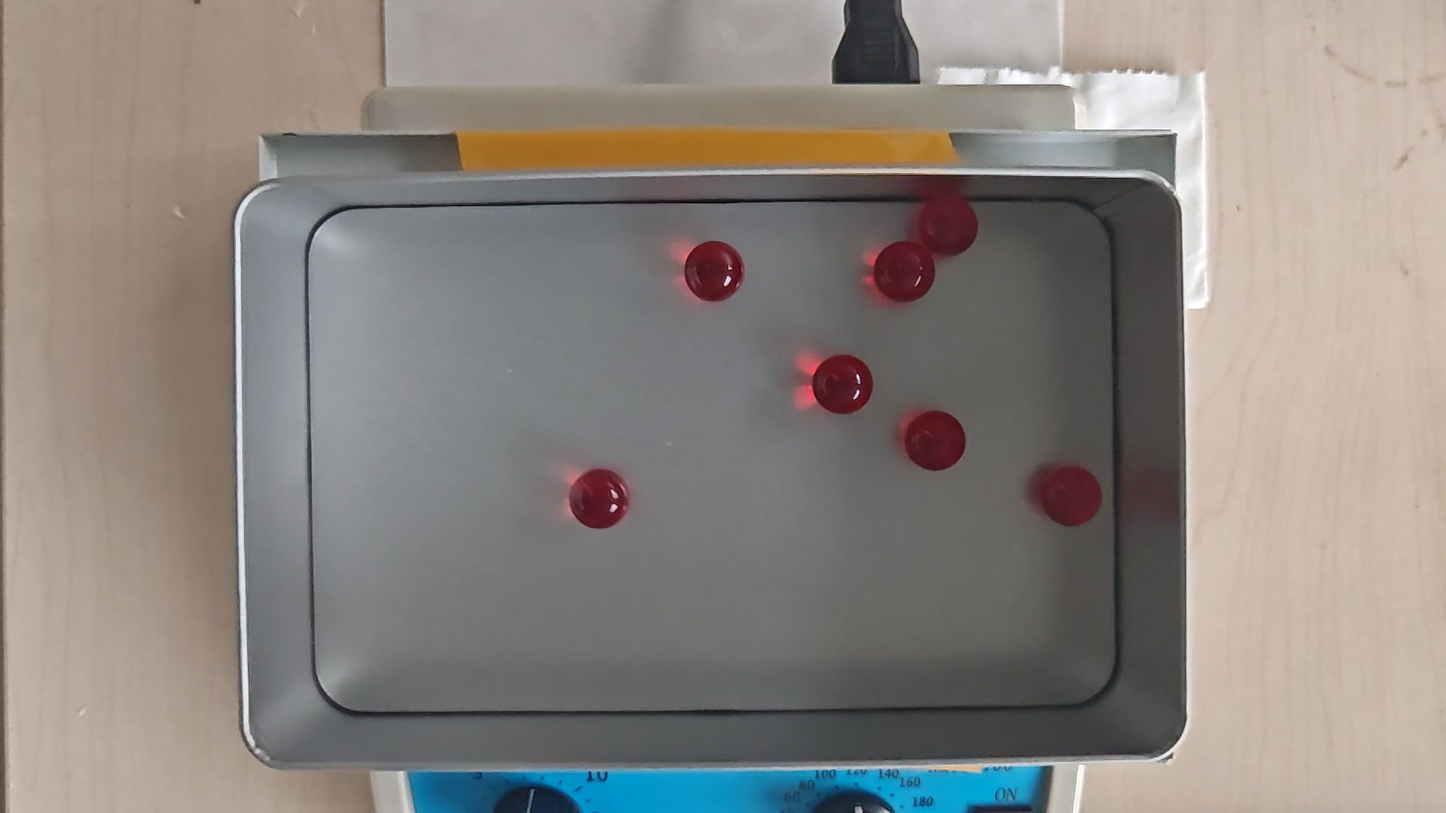ball: (571, 467, 628, 530), (907, 410, 966, 470), (685, 239, 743, 300), (816, 355, 874, 415), (1043, 466, 1101, 525), (877, 242, 935, 300), (920, 198, 977, 253)
container: (309, 200, 1116, 712)
